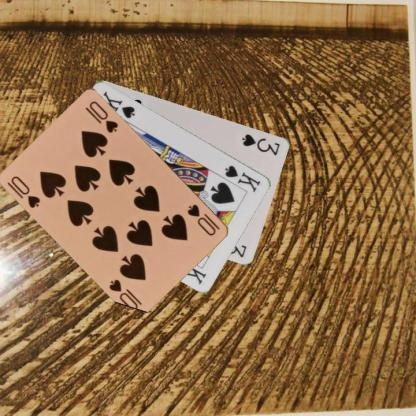10s: (184, 202, 221, 237), (8, 172, 42, 209)
3s: (240, 131, 282, 157)
Ks: (222, 162, 262, 193)
